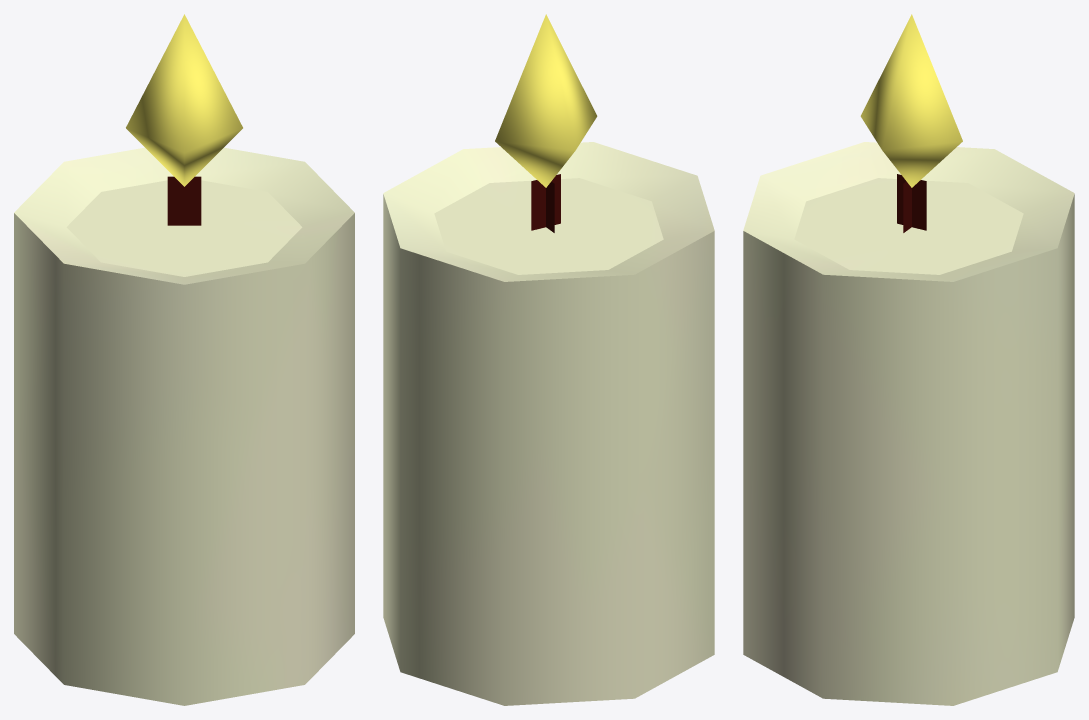
Rendered from pm-candle.glb.
The picture shows the model from 3 angles, left to right: view 1: azimuth 30°, elevation 25°; view 2: azimuth 150°, elevation 25°; view 3: azimuth 270°, elevation 25°; orthographic projection.
Visible parts, largest first — view 1: Candle; view 2: Candle; view 3: Candle.
Boxes of the visible parts, bbox=[...] form: Candle: bbox=[14, 14, 354, 705]; Candle: bbox=[383, 14, 714, 705]; Candle: bbox=[743, 14, 1074, 705].
Bounding box in the file's own units: 0.3885 × 0.805 × 0.3885.
Materials: 1 (1 with a texture image).
